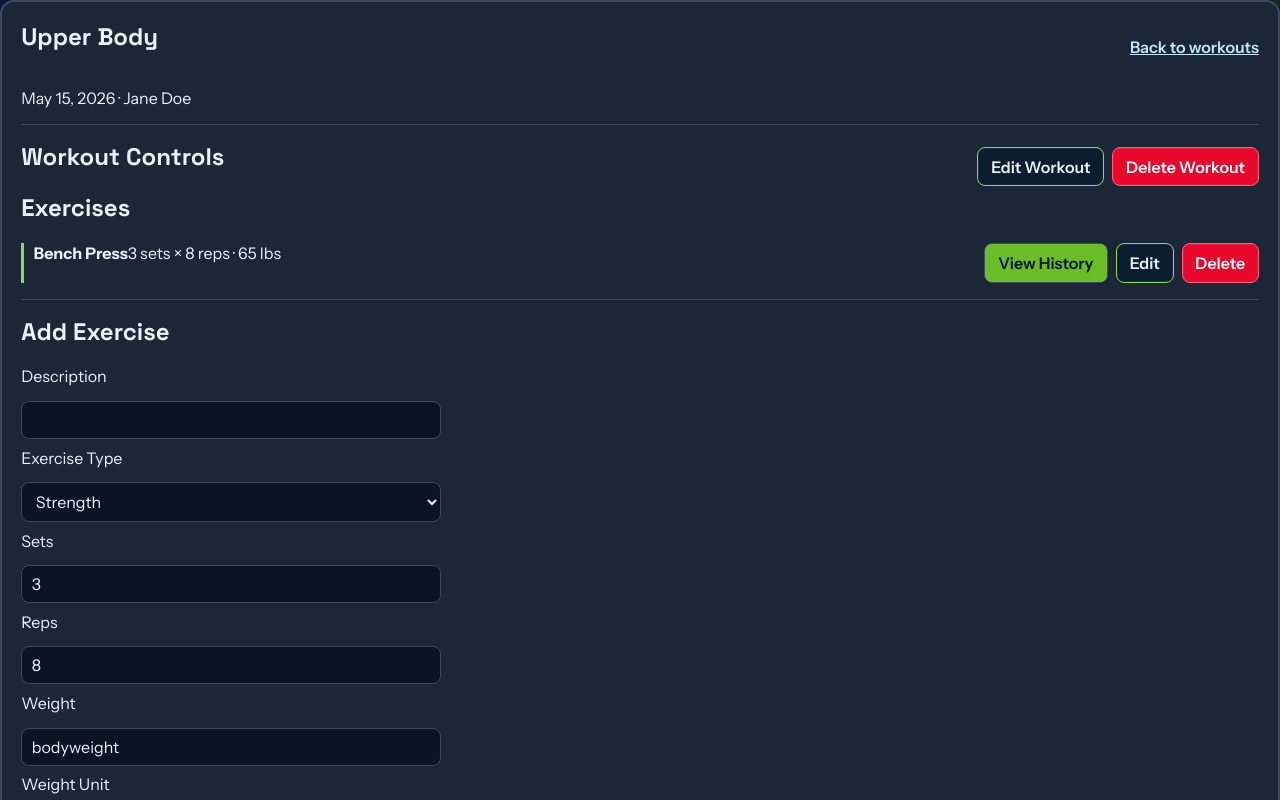
Test case: WorkoutDetailPage › populates the exercise form when clicking Edit on an exercise
The image size is (1280, 800).
Expected: the heading "Upper Body" is shown, [21,21,158,52]
Click the button "Edit": click(1145, 263) [1116,243,1174,282]
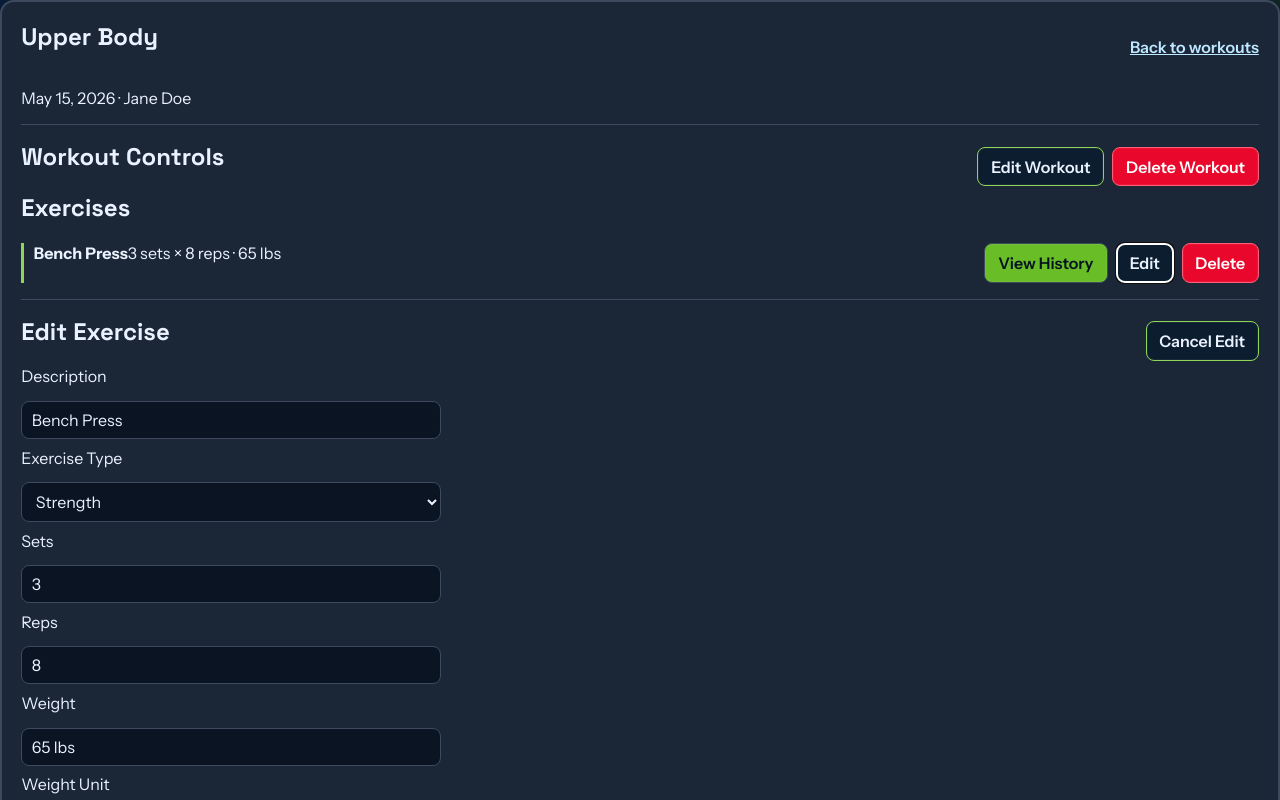
Expected: the field labelled "Description" holds "Bench Press", [21,401,441,439]
Expected: the button "Cancel Edit" is shown, [1146,321,1259,361]
